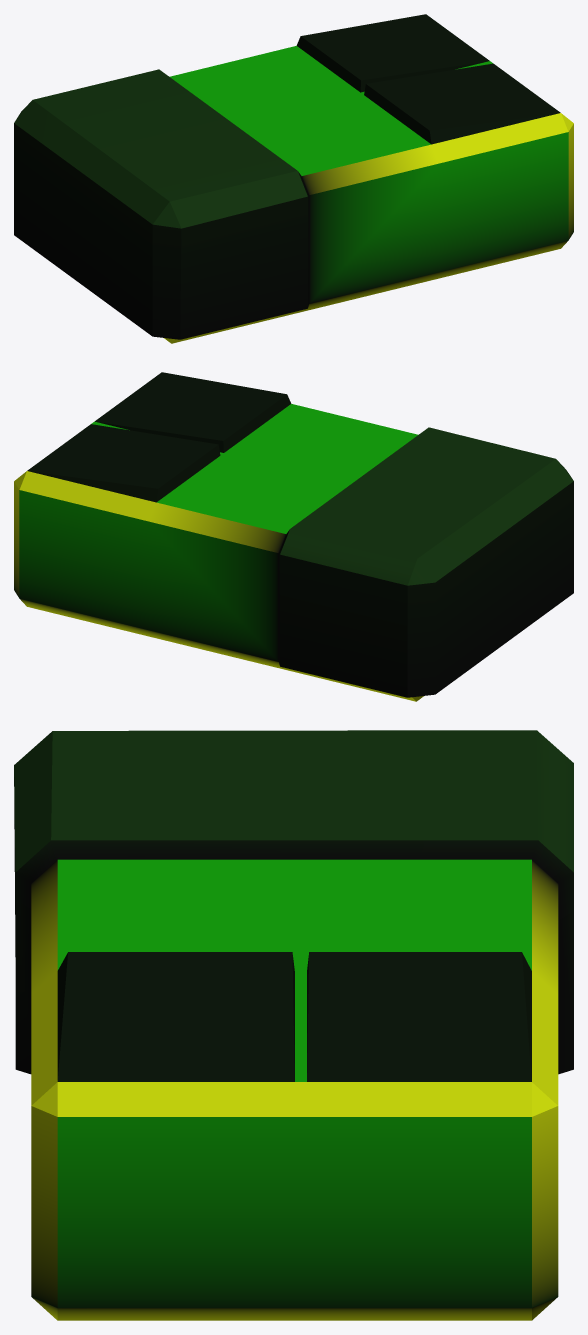
File: backpack01.fbx
3 renders of one model, top to bottom at view 1: azimuth 30°, elevation 25°; view 2: azimuth 150°, elevation 25°; view 3: azimuth 270°, elevation 25°, orthographic. The views are drawn at different scales.
Parts seen in each view (by area): view 1: backpack_01; view 2: backpack_01; view 3: backpack_01.
Part boxes in pixels (x1,y1,x2,y2): backpack_01: (14,14,573,343); backpack_01: (14,372,573,701); backpack_01: (14,730,573,1320).
Bounding box in the file's own units: 81.5 × 27.1 × 53.14.
